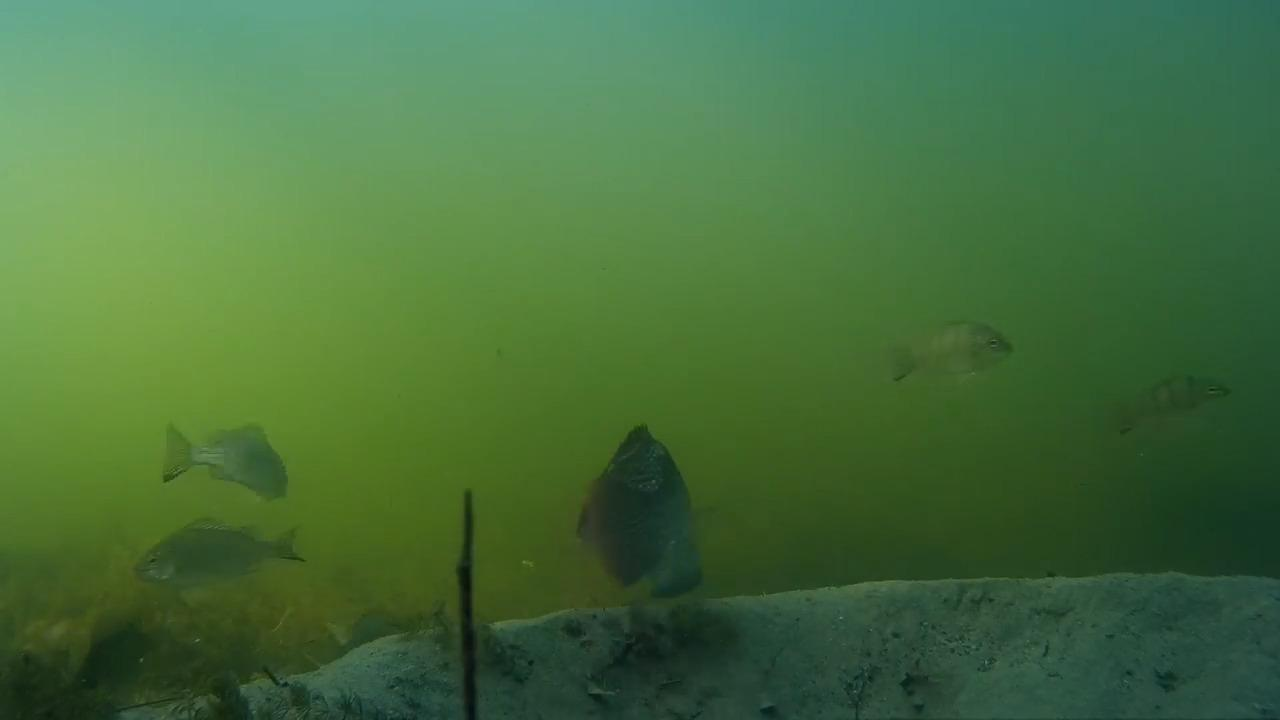Tilapia: (572, 419, 719, 605), (123, 516, 326, 595), (157, 414, 294, 502), (882, 316, 1023, 394), (1103, 367, 1242, 441)
